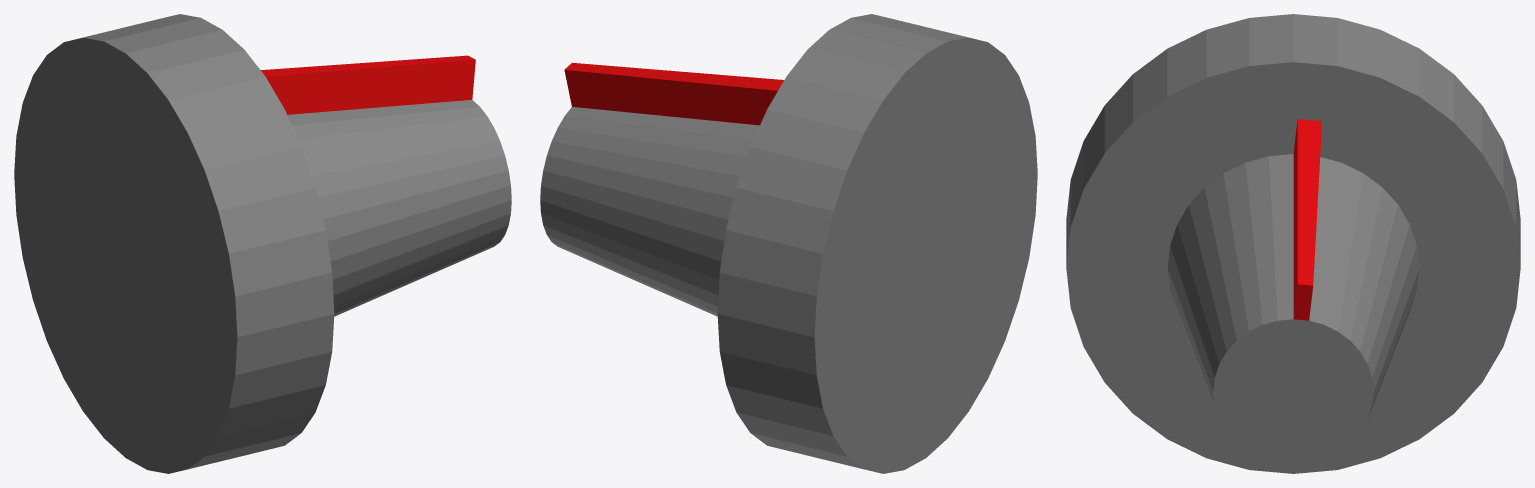
Rendered from spinner_for_voltage_source.glb.
The picture shows the model from 3 angles, left to right: view 1: azimuth 30°, elevation 25°; view 2: azimuth 150°, elevation 25°; view 3: azimuth 270°, elevation 25°; orthographic projection.
Visible parts, largest first — view 1: Крутилка 1; view 2: Крутилка 1; view 3: Крутилка 1.
Part boxes in pixels (box(x1,y1,x2,y2)): Крутилка 1: box(14, 14, 511, 473); Крутилка 1: box(540, 14, 1037, 473); Крутилка 1: box(1066, 14, 1520, 473).
Bounding box in the file's own units: 0.7359 × 0.8081 × 0.8081.
